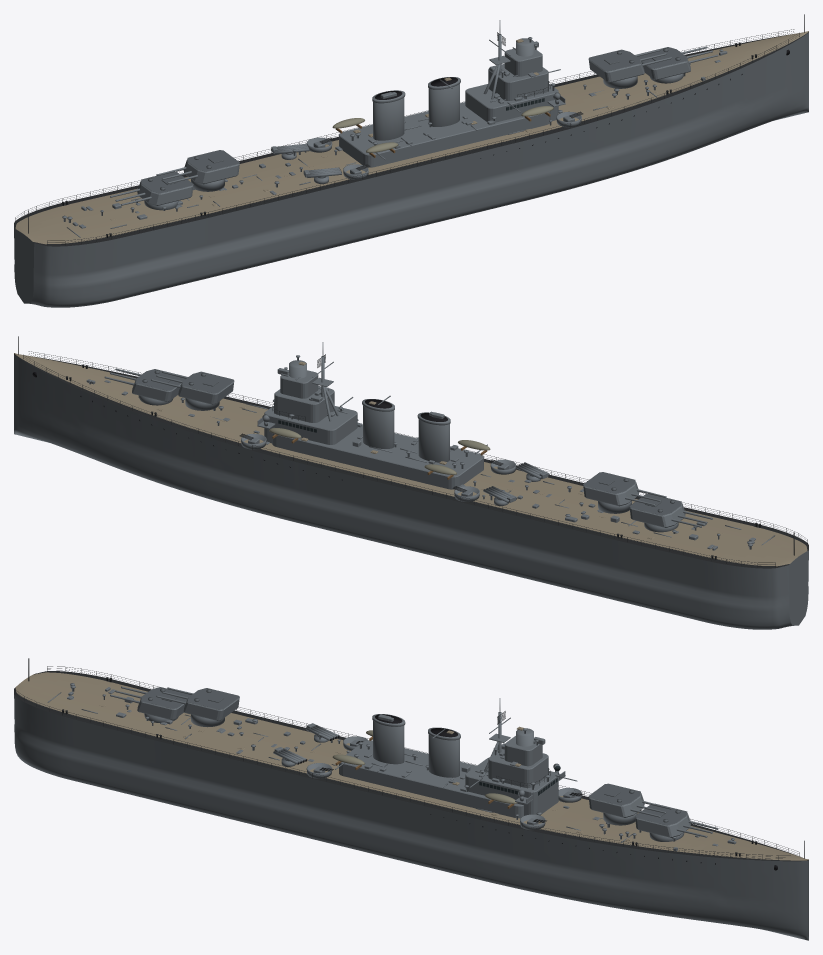
File: fiji.glb
3 views of the same model, one above another, from view 1: azimuth 30°, elevation 25°; view 2: azimuth 150°, elevation 25°; view 3: azimuth 330°, elevation 25° (orthographic).
Visible parts, largest first — view 1: fiji, T_2_malla, T_3_malla, T_1_malla, T_0_malla; view 2: fiji, T_2_malla, T_3_malla, T_1_malla, T_0_malla; view 3: fiji, T_1_malla, T_2_malla, T_0_malla, T_3_malla.
Boxes of the visible parts, x1=… form: fiji: x1=14, y1=14, x2=808, y2=307; T_2_malla: x1=183, y1=150, x2=239, y2=184; T_3_malla: x1=137, y1=172, x2=193, y2=205; T_1_malla: x1=588, y1=49, x2=644, y2=82; T_0_malla: x1=637, y1=47, x2=690, y2=79; fiji: x1=14, y1=336, x2=808, y2=629; T_2_malla: x1=583, y1=472, x2=639, y2=506; T_3_malla: x1=629, y1=494, x2=685, y2=527; T_1_malla: x1=178, y1=371, x2=234, y2=404; T_0_malla: x1=132, y1=369, x2=185, y2=401; fiji: x1=14, y1=658, x2=808, y2=940; T_1_malla: x1=588, y1=783, x2=644, y2=817; T_2_malla: x1=183, y1=688, x2=239, y2=720; T_0_malla: x1=635, y1=803, x2=690, y2=837; T_3_malla: x1=137, y1=687, x2=190, y2=719.
Size of the model in its own units: 169 by 34.5 by 18.9.
